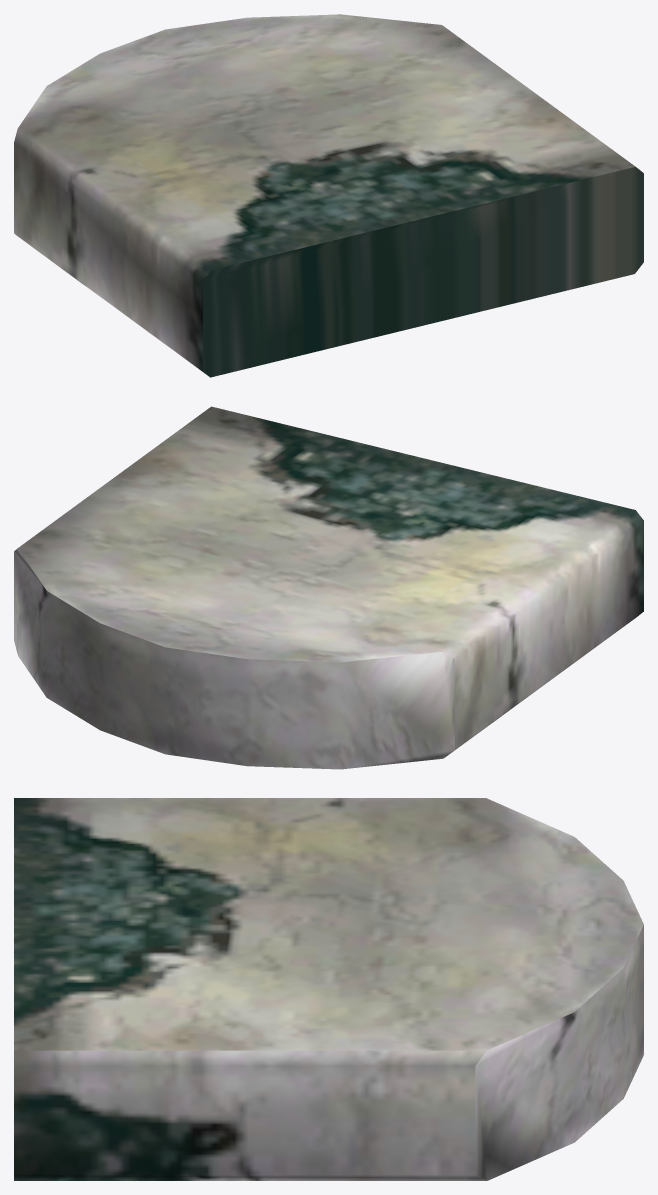
The model's file is INST_MIRK_GRAVESTONE_C.fbx.
3 views of the same model, one above another, from view 1: azimuth 30°, elevation 25°; view 2: azimuth 150°, elevation 25°; view 3: azimuth 270°, elevation 25° (orthographic). The views are drawn at different scales.
Visible parts, largest first — view 1: INST_MIRK_GRAVESTONE_C; view 2: INST_MIRK_GRAVESTONE_C; view 3: INST_MIRK_GRAVESTONE_C.
Part boxes in pixels (x1=…): INST_MIRK_GRAVESTONE_C: x1=14, y1=14, x2=643, y2=377; INST_MIRK_GRAVESTONE_C: x1=14, y1=406, x2=643, y2=769; INST_MIRK_GRAVESTONE_C: x1=14, y1=798, x2=643, y2=1180.
Size of the model in its own units: 4828 by 1120 by 4898.
1 material, 1 textured.
